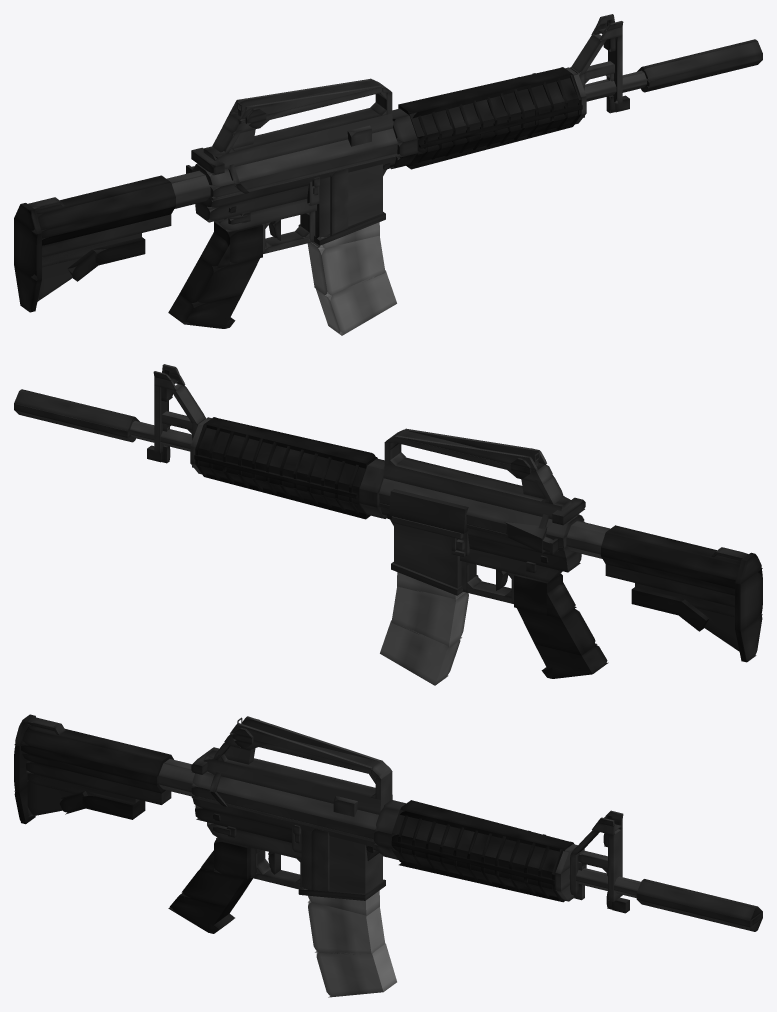
3 renders of one model, top to bottom at view 1: azimuth 30°, elevation 25°; view 2: azimuth 150°, elevation 25°; view 3: azimuth 330°, elevation 25°, orthographic.
Visible parts, largest first — view 1: gunModel18, gunModel93, ammoModel1, gunModel106, gunModel0, ammoModel2, gunModel5, gunModel121, gunModel8, gunModel175, gunModel1, gunModel108 (+31 smaller); view 2: gunModel18, gunModel93, ammoModel1, gunModel106, gunModel5, ammoModel2, gunModel121, gunModel0, gunModel8, gunModel38, gunModel175, gunModel108 (+31 smaller); view 3: gunModel18, gunModel93, ammoModel1, gunModel5, ammoModel2, gunModel106, gunModel0, gunModel121, gunModel175, gunModel1, gunModel96, gunModel108 (+29 smaller).
Boxes of the visible parts, bbox=[...] form: gunModel18: bbox=[203, 108, 392, 168]; gunModel93: bbox=[28, 175, 175, 230]; ammoModel1: bbox=[307, 235, 385, 297]; gunModel106: bbox=[393, 78, 577, 137]; gunModel0: bbox=[191, 128, 397, 188]; ammoModel2: bbox=[316, 270, 396, 335]; gunModel5: bbox=[309, 164, 382, 240]; gunModel121: bbox=[398, 67, 572, 119]; gunModel8: bbox=[179, 257, 259, 305]; gunModel175: bbox=[637, 39, 762, 80]; gunModel1: bbox=[191, 143, 397, 198]; gunModel108: bbox=[417, 98, 578, 154]; gunModel18: bbox=[384, 457, 573, 519]; gunModel93: bbox=[601, 525, 740, 580]; ammoModel1: bbox=[391, 586, 468, 647]; gunModel106: bbox=[199, 428, 377, 487]; gunModel5: bbox=[394, 523, 461, 588]; ammoModel2: bbox=[380, 620, 460, 685]; gunModel121: bbox=[204, 417, 377, 468]; gunModel0: bbox=[379, 478, 584, 538]; gunModel8: bbox=[517, 608, 597, 655]; gunModel38: bbox=[389, 489, 468, 533]; gunModel175: bbox=[14, 389, 139, 430]; gunModel108: bbox=[198, 448, 359, 504]; gunModel18: bbox=[203, 748, 392, 814]; gunModel93: bbox=[21, 725, 173, 776]; ammoModel1: bbox=[308, 900, 385, 954]; gunModel5: bbox=[301, 829, 382, 893]; ammoModel2: bbox=[316, 943, 396, 997]; gunModel106: bbox=[392, 809, 559, 871]; gunModel0: bbox=[192, 771, 378, 829]; gunModel121: bbox=[400, 800, 572, 851]; gunModel175: bbox=[637, 879, 762, 920]; gunModel1: bbox=[191, 786, 375, 839]; gunModel96: bbox=[26, 761, 171, 804]; gunModel108: bbox=[392, 833, 556, 889].
Bounding box in the file's own units: 26.4 × 8.63 × 2.1.
